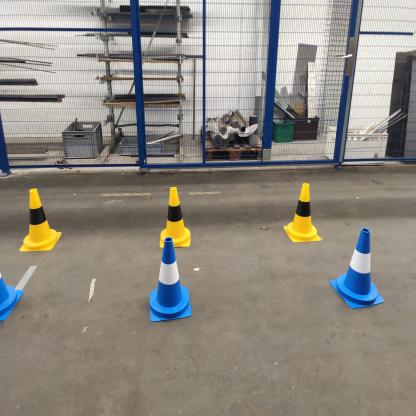Cones_small_blue: (323, 209, 391, 314), (140, 234, 206, 328)
Cones_small_yellow: (276, 176, 327, 250), (16, 184, 62, 255), (156, 179, 194, 249)
